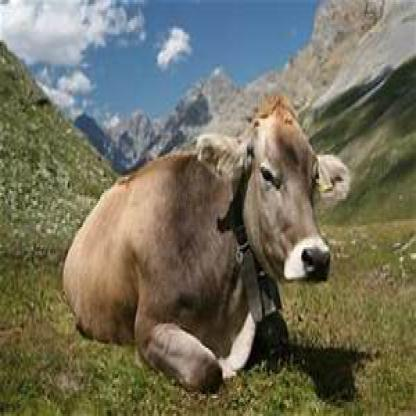cow: (58, 96, 341, 396)
